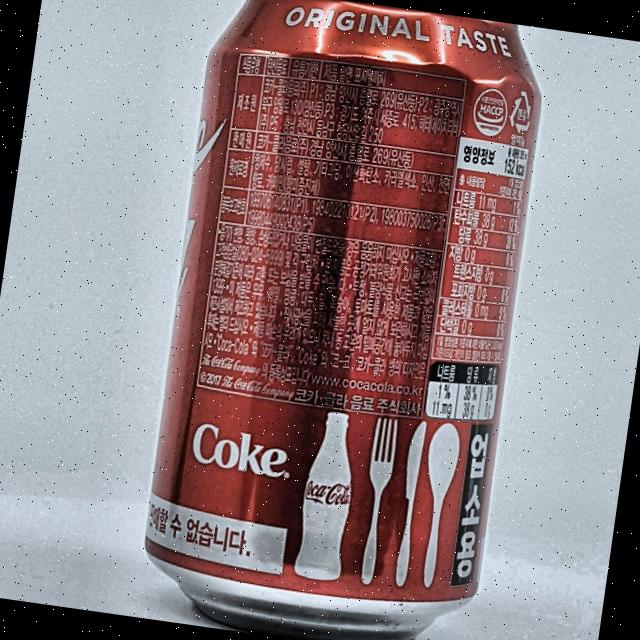cocacola: (133, 0, 576, 640)
